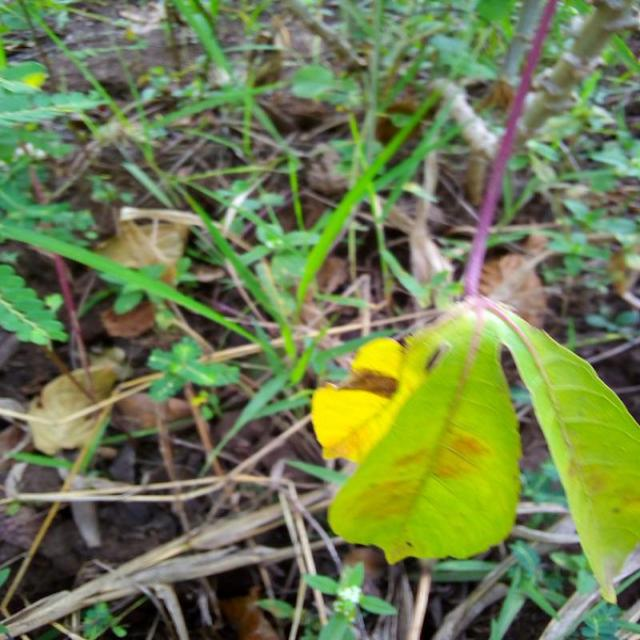cassava leaf: (312, 292, 639, 605)
